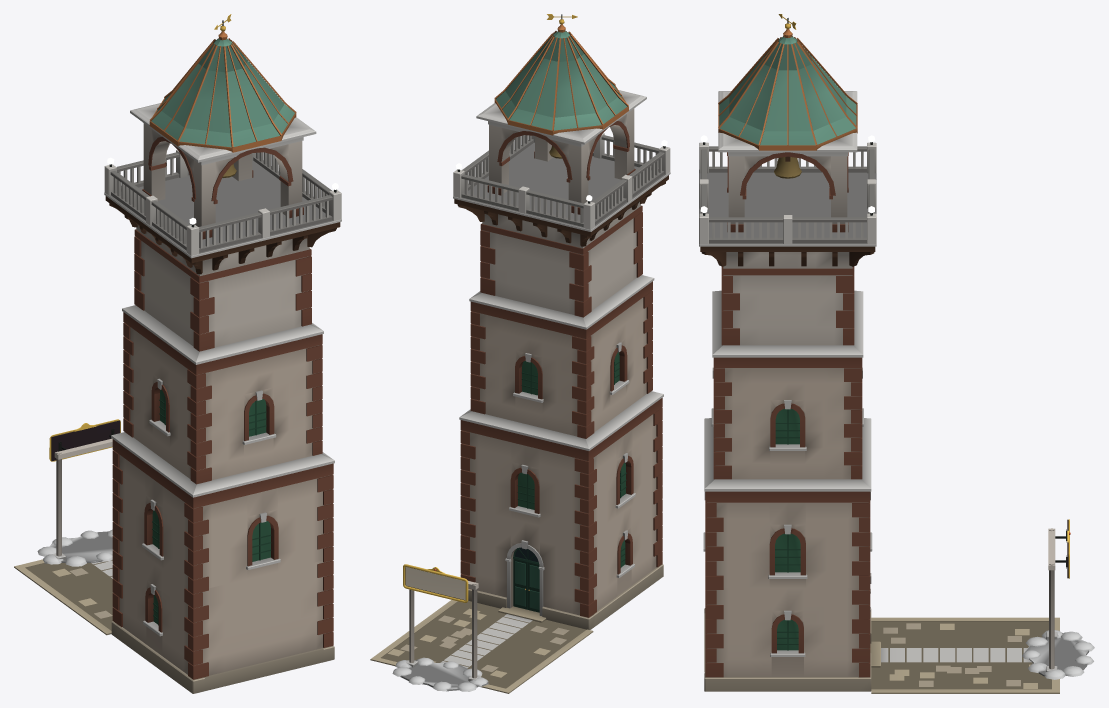
The model's file is pav_skytower.glb.
3 renders of one model, left to right at view 1: azimuth 30°, elevation 25°; view 2: azimuth 150°, elevation 25°; view 3: azimuth 270°, elevation 25°, orthographic. The views are drawn at different scales.
Parts seen in each view (by area): view 1: static_skytower; view 2: static_skytower; view 3: static_skytower.
Part boxes in pixels (bbox=[...]): static_skytower: bbox=[14, 14, 341, 693]; static_skytower: bbox=[370, 14, 670, 693]; static_skytower: bbox=[699, 14, 1094, 693].
Bounding box in the file's own units: 6.6 × 26.17 × 14.7.
